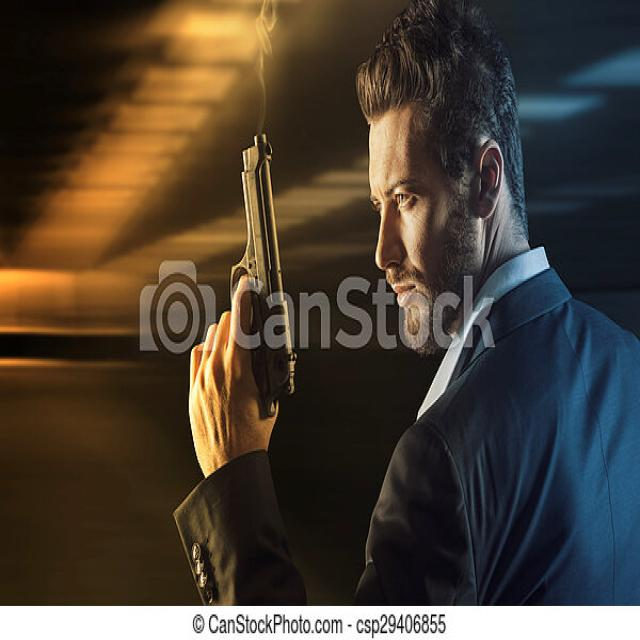HandGun: (235, 133, 294, 419)
